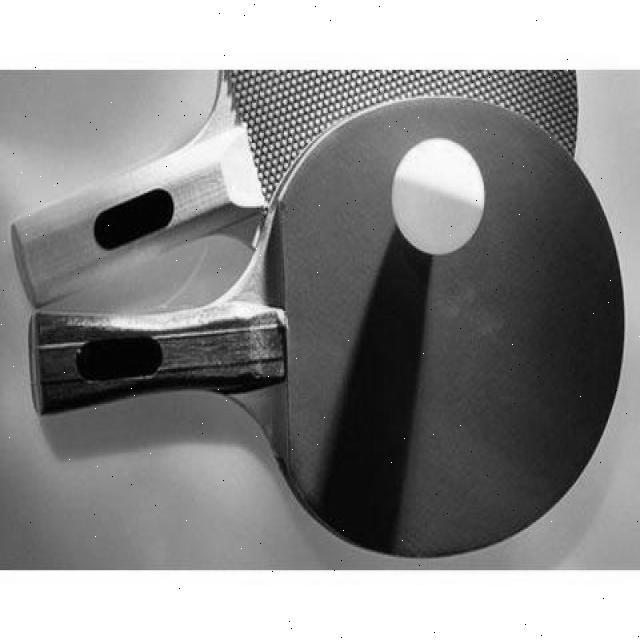ping-pong-ball: (392, 138, 486, 255)
